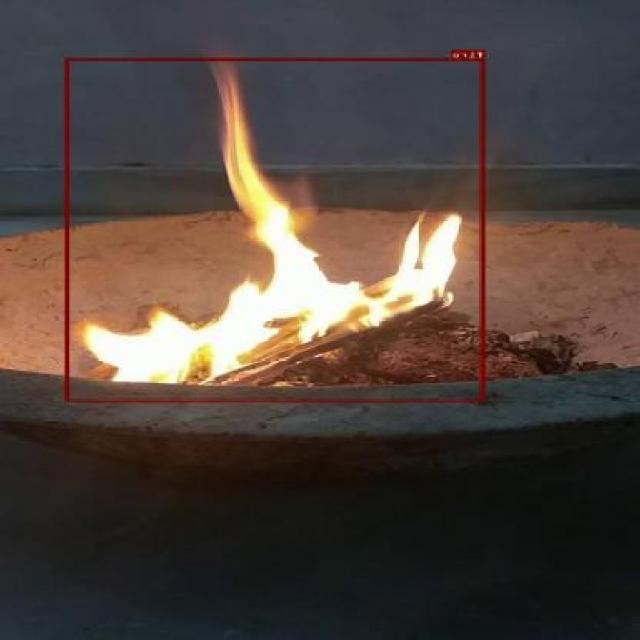Fire: (66, 56, 486, 402)
